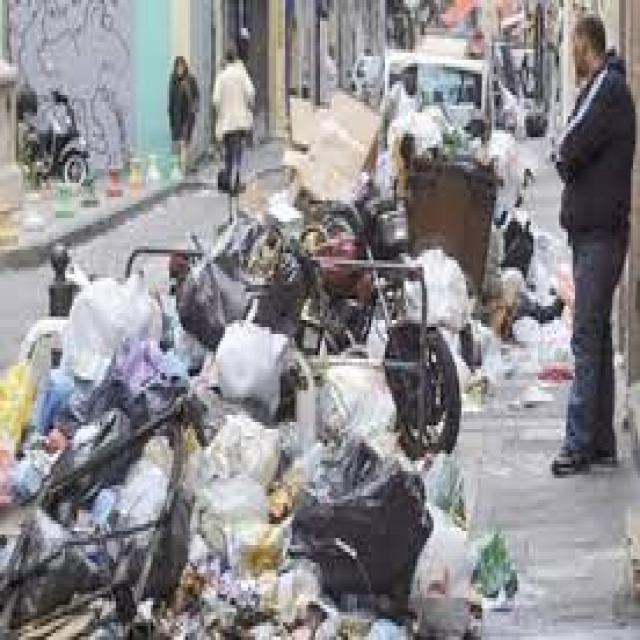garbage: (0, 173, 522, 640)
